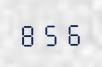eight: (18, 20, 38, 47)
five: (40, 20, 60, 46)
six: (61, 19, 81, 46)
